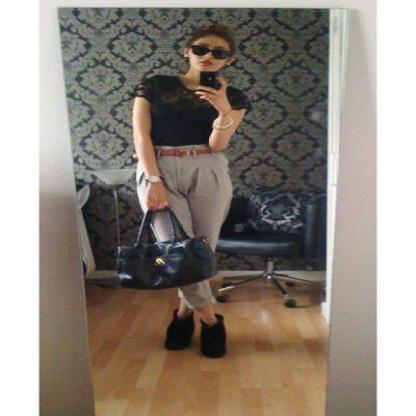bag: (93, 208, 224, 295)
pants: (137, 152, 232, 302)
shirt: (137, 71, 261, 147)
shoe: (164, 309, 226, 358)
sunglass: (172, 33, 245, 68)
